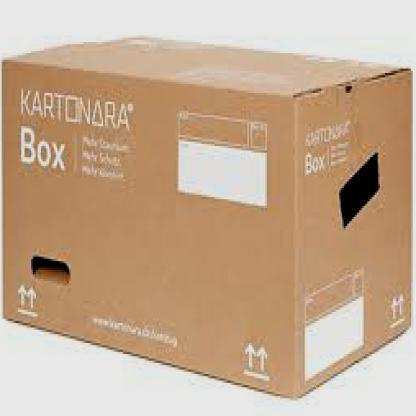box: (0, 24, 415, 408)
